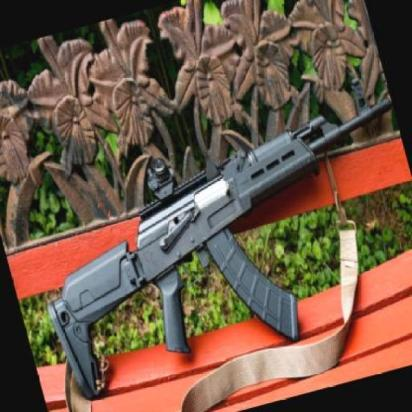Gun: (58, 97, 392, 378)
